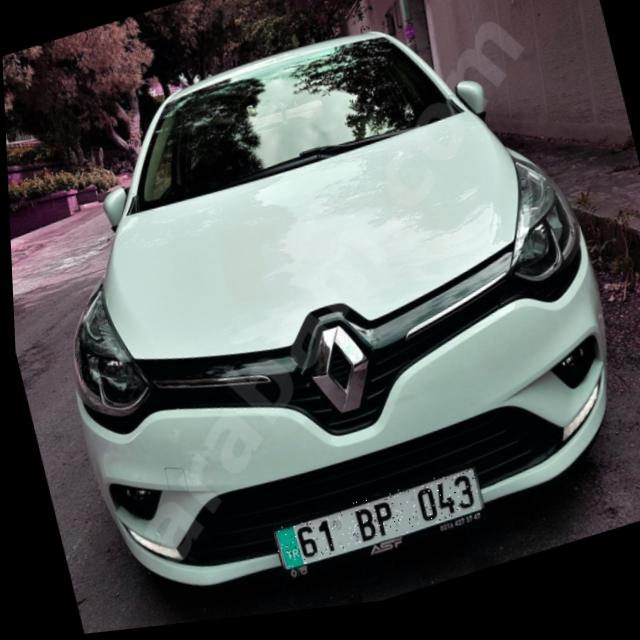license_plate: (266, 475, 479, 578)
